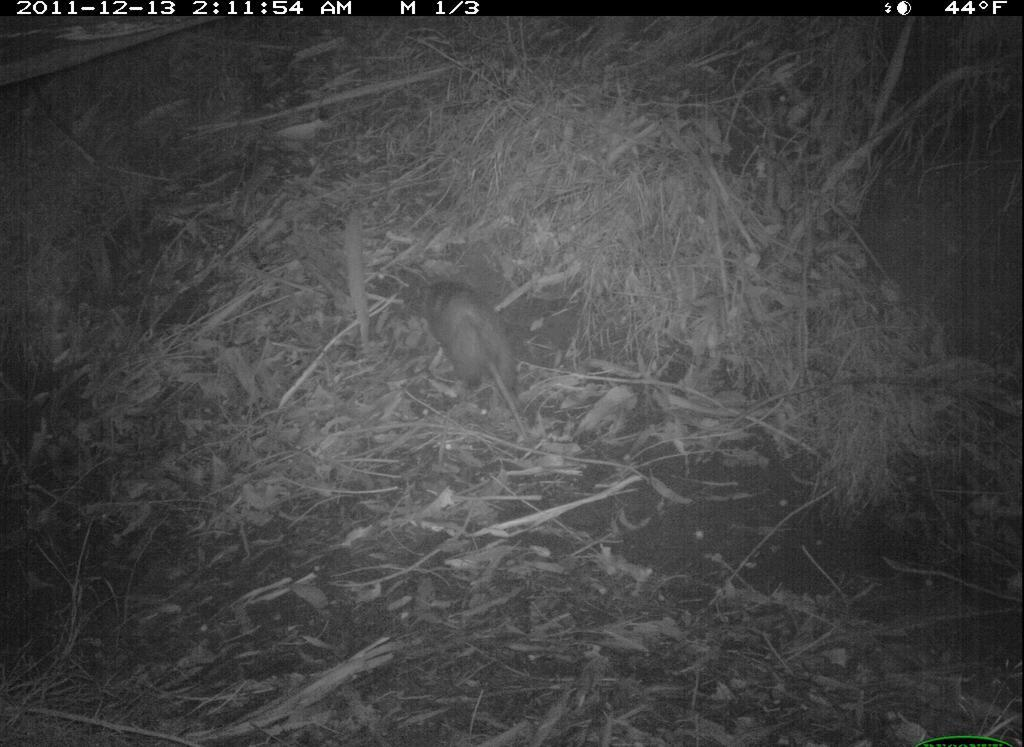opossum: (400, 272, 543, 450)
